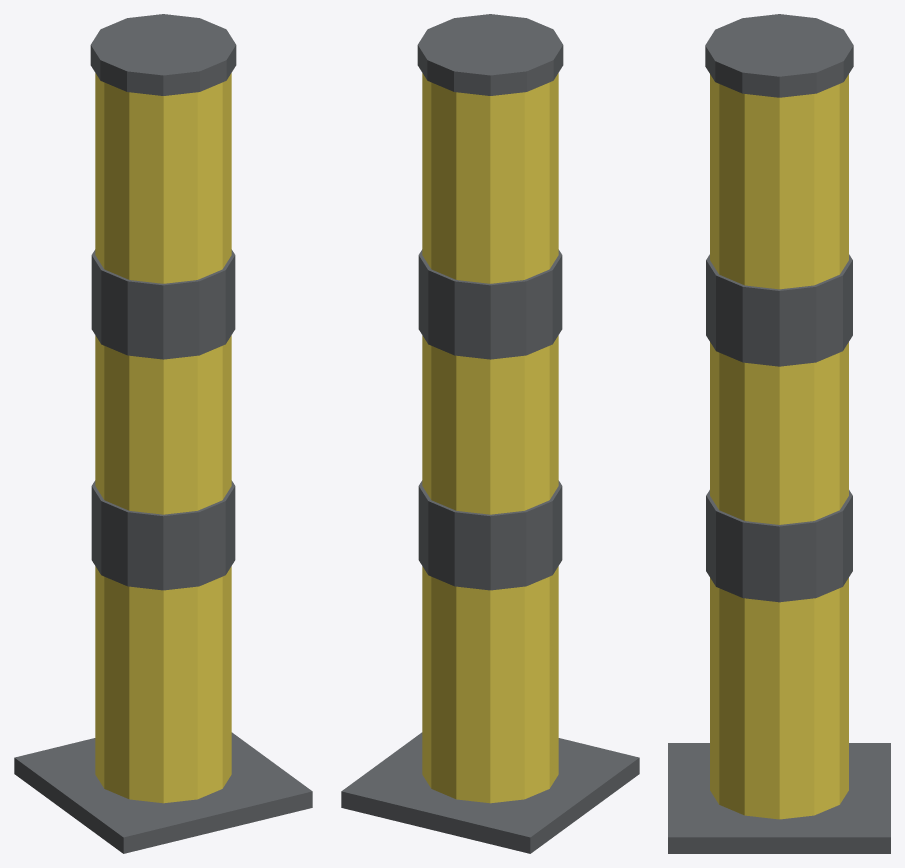
Rendered from bollard.glb.
The picture shows the model from 3 angles, left to right: view 1: azimuth 30°, elevation 25°; view 2: azimuth 150°, elevation 25°; view 3: azimuth 270°, elevation 25°; orthographic projection. The views are drawn at different scales.
Parts seen in each view (by area): view 1: machine-shop-and-factory-hall-safety-bollard; view 2: machine-shop-and-factory-hall-safety-bollard; view 3: machine-shop-and-factory-hall-safety-bollard.
Part boxes in pixels (<box>): machine-shop-and-factory-hall-safety-bollard: <box>14,14,312,853</box>; machine-shop-and-factory-hall-safety-bollard: <box>341,14,639,853</box>; machine-shop-and-factory-hall-safety-bollard: <box>668,14,890,853</box>.
Size of the model in its own units: 0.24 by 0.905 by 0.24.
